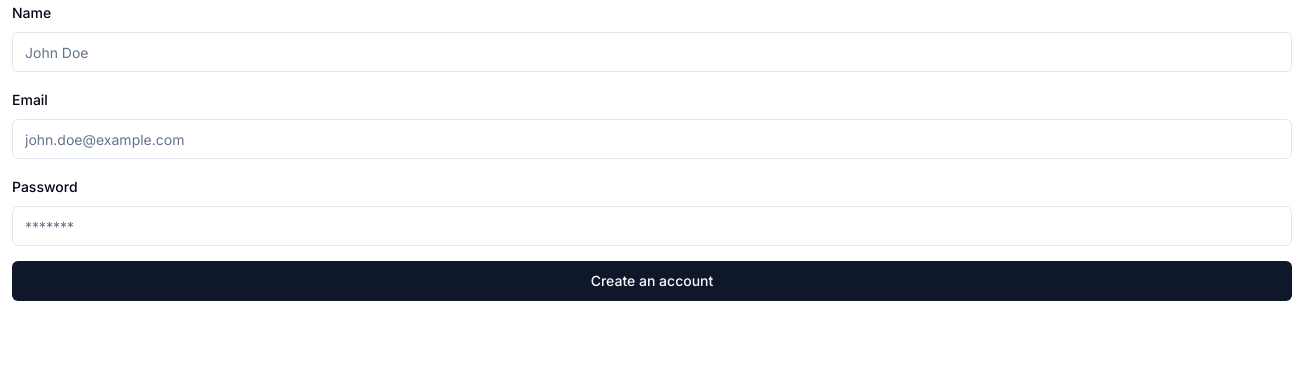
Test: Register form component › should show a success message when the request fails
Type "test" into the field labelled "Name" at (652, 52), box left=12, top=32, right=1292, bottom=72
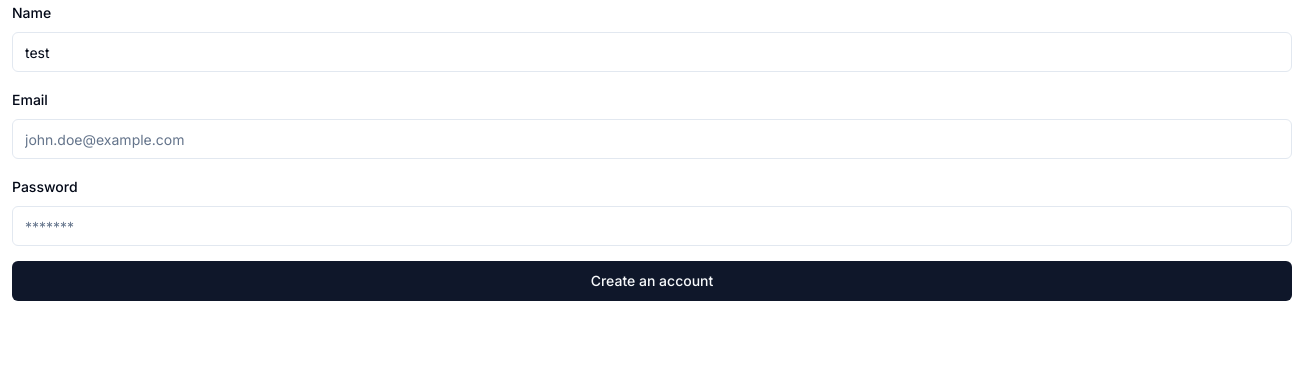
Type "test@test.com" into the field labelled "Email" at (652, 139), box left=12, top=119, right=1292, bottom=159
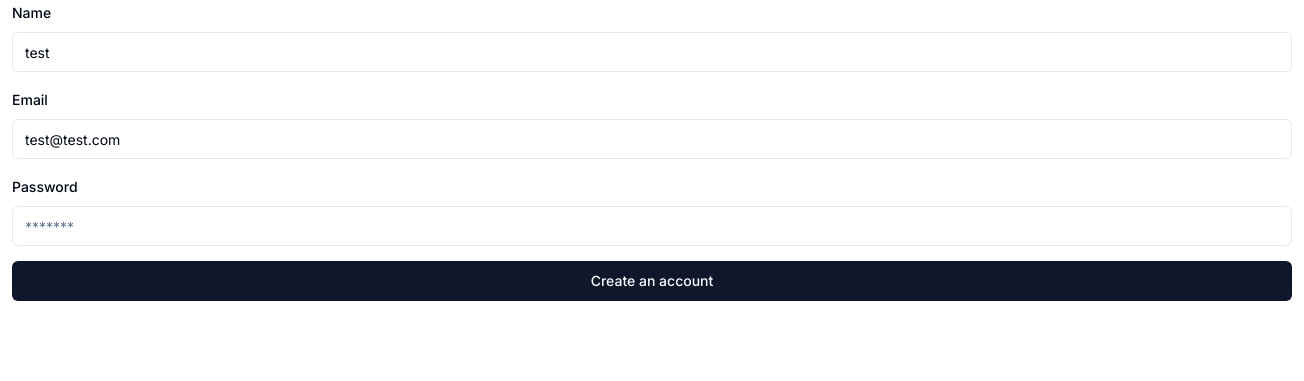
Type "Testpassword1$" into the password field labelled "Password" at (652, 226), box left=12, top=206, right=1292, bottom=246
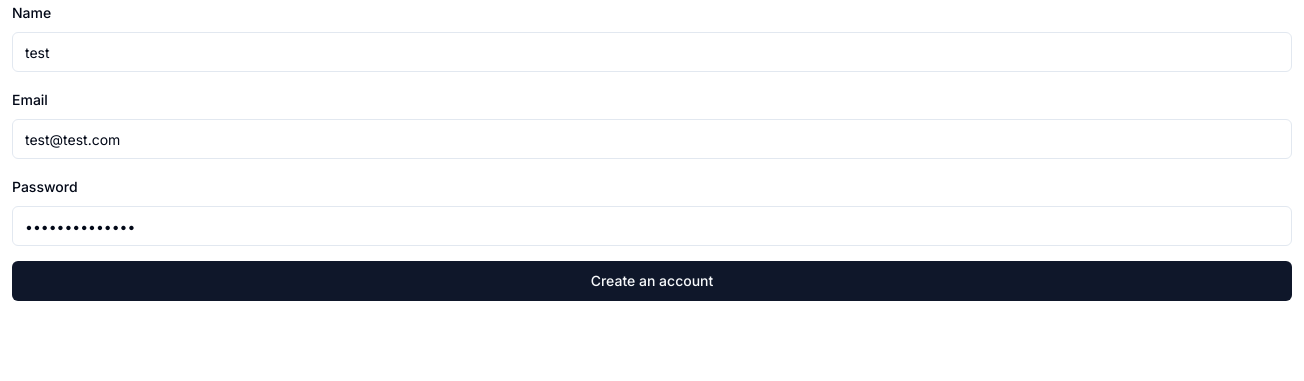
Click the button with aria-label "register" at (652, 281), box left=12, top=261, right=1292, bottom=301
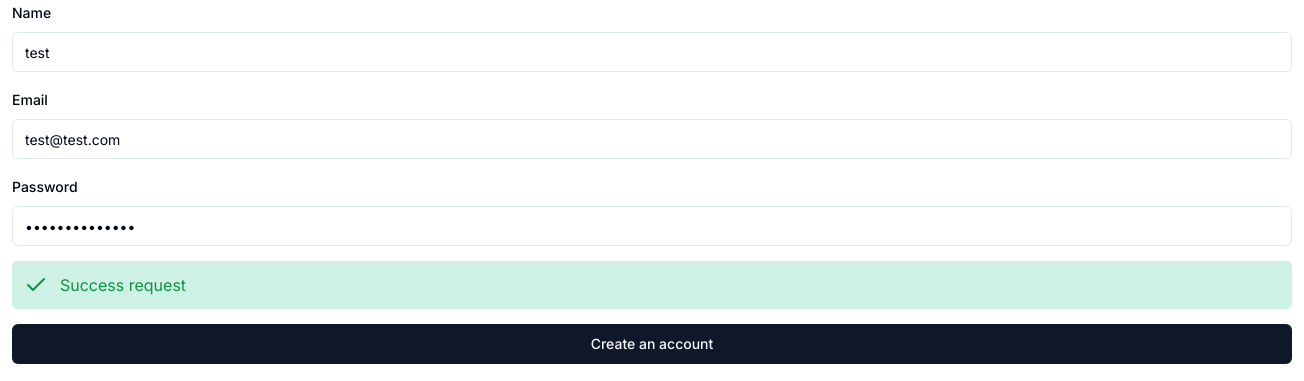
Check: the text "Success request" is shown, box left=12, top=261, right=1292, bottom=309
